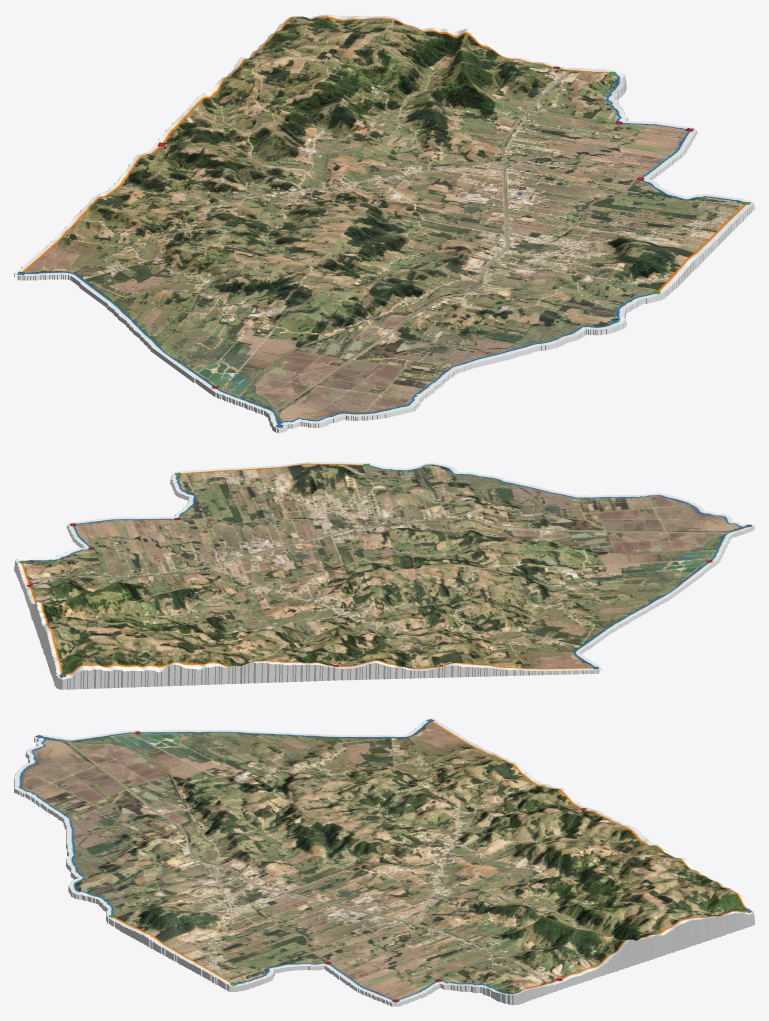
3 views of the same model, one above another, from view 1: azimuth 30°, elevation 25°; view 2: azimuth 150°, elevation 25°; view 3: azimuth 270°, elevation 25° (orthographic). The views are drawn at different scales.
Size of the model in its own units: 0.9994 by 0.0437 by 1.1.
Materials: 1 (1 with a texture image).
